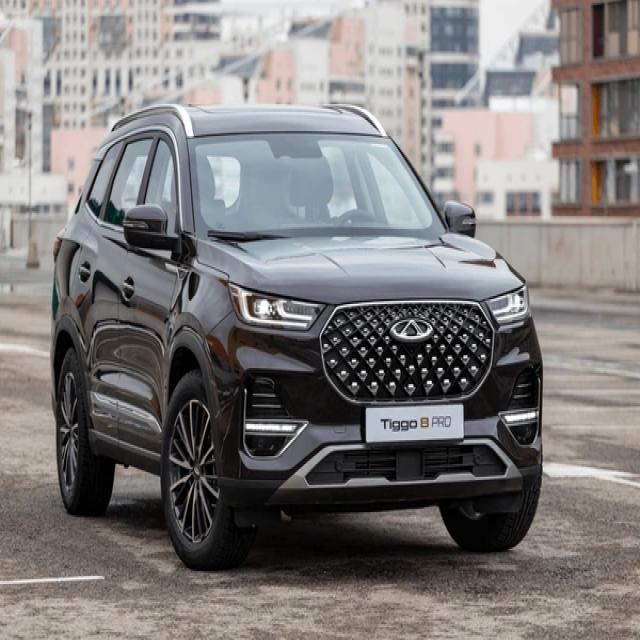cherry: (388, 312, 440, 343)
